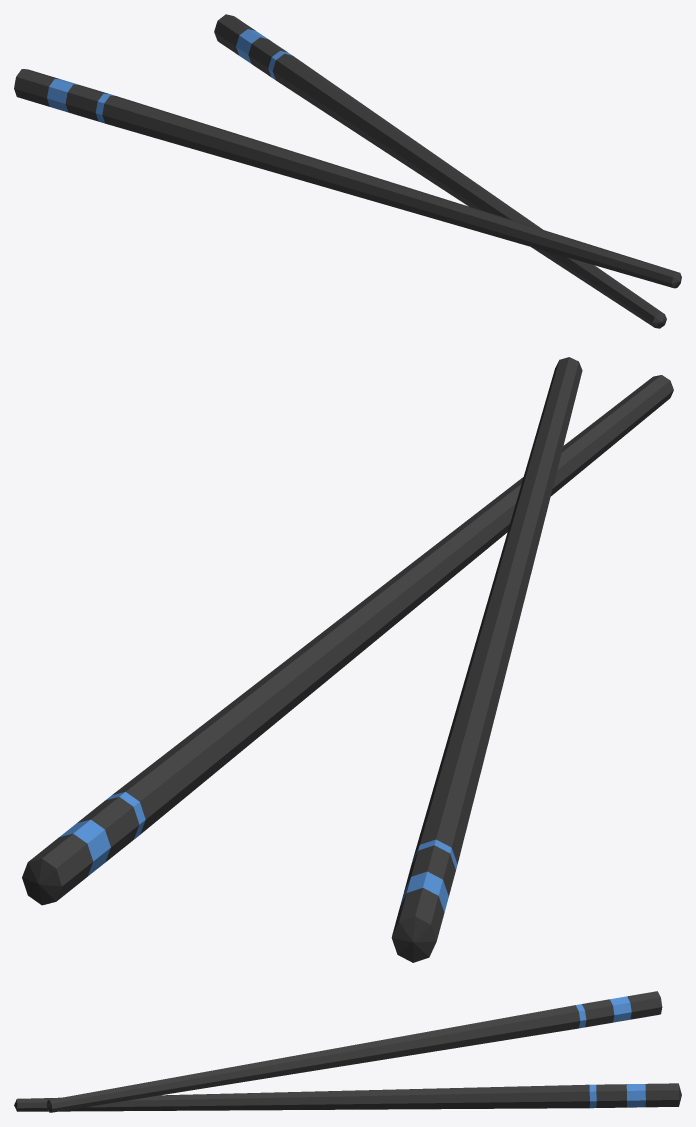
The model's file is Chopsticks_1.fbx.
The picture shows the model from 3 angles, top to bottom: view 1: azimuth 30°, elevation 25°; view 2: azimuth 150°, elevation 25°; view 3: azimuth 270°, elevation 25°; orthographic projection. The views are drawn at different scales.
Parts seen in each view (by area): view 1: Chopsticks_1; view 2: Chopsticks_1; view 3: Chopsticks_1.
Part boxes in pixels (x1,y1,x2,y2): Chopsticks_1: (14,14,681,328); Chopsticks_1: (22,357,673,962); Chopsticks_1: (14,991,681,1112).
Size of the model in its own units: 9.76 by 23.41 by 1.22.
